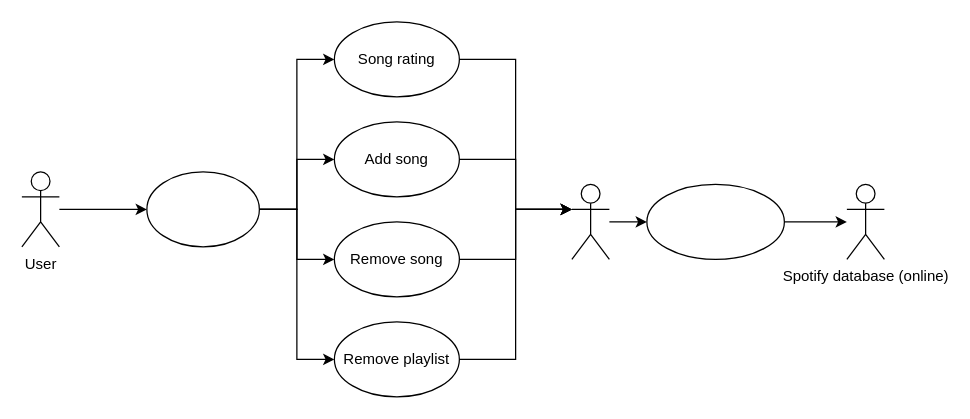
Some shapes in this 970 by 419 pixel diagram are drawn without their labels. Here are the shapes that lost their labels. From the top down, the centre of each, then its label:
At point (202, 209): "Edit current playlist".
At point (590, 221): "Local database (.db)".
At point (715, 221): "Update playlist on Spotify".
